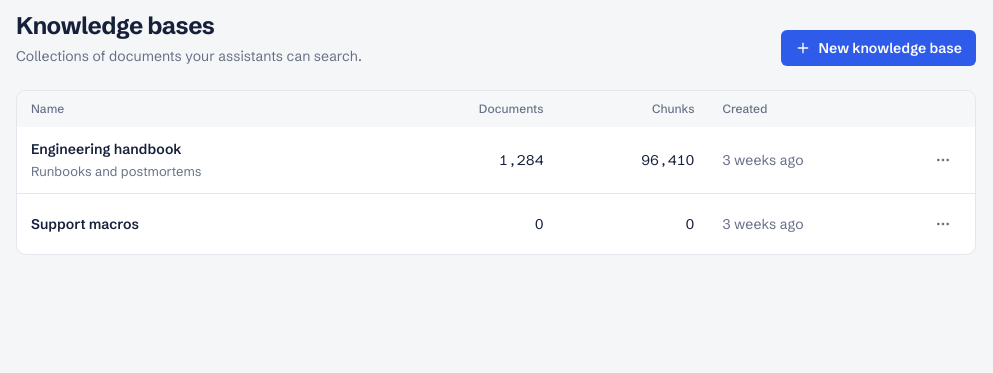
Test: KnowledgeBasesPage › row actions menu › offers open, chat, connect and delete for each knowledge base
This screenshot has width=993, height=373.
Expected: the link "Engineering handbook" is shown, [31,140,182,158]
Click the button named "Actions for Engineering handbook". click: (943, 160)
box: [925,142,961,178]
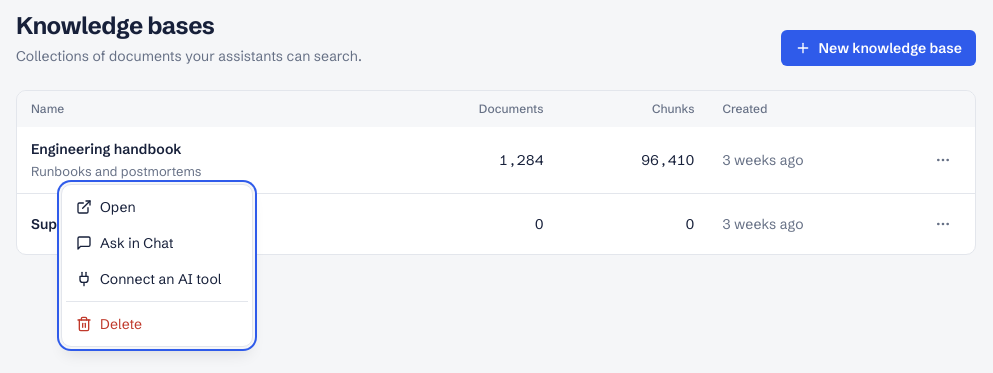
Result: the menu item "Ask in Chat" is shown at [76,234,174,252]
Result: the menu item "Delete" is shown at [76,315,142,333]
